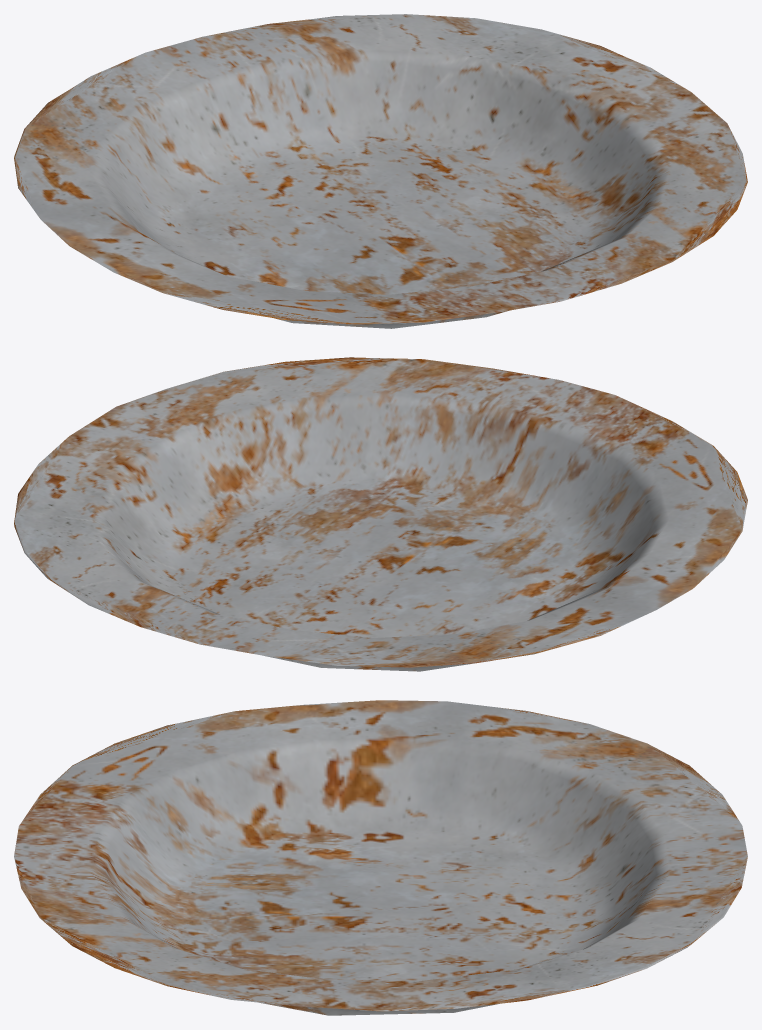
The model's file is SM_plate01.fbx.
3 views of the same model, one above another, from view 1: azimuth 30°, elevation 25°; view 2: azimuth 150°, elevation 25°; view 3: azimuth 270°, elevation 25° (orthographic).
Parts seen in each view (by area): view 1: SM_plate01_LOD0; view 2: SM_plate01_LOD0; view 3: SM_plate01_LOD0.
Boxes of the visible parts, left/top/right/bottom form: SM_plate01_LOD0: left=14, top=14, right=747, bottom=328; SM_plate01_LOD0: left=14, top=357, right=747, bottom=671; SM_plate01_LOD0: left=14, top=700, right=747, bottom=1015.
Size of the model in its own units: 44.22 by 44.22 by 4.44.
